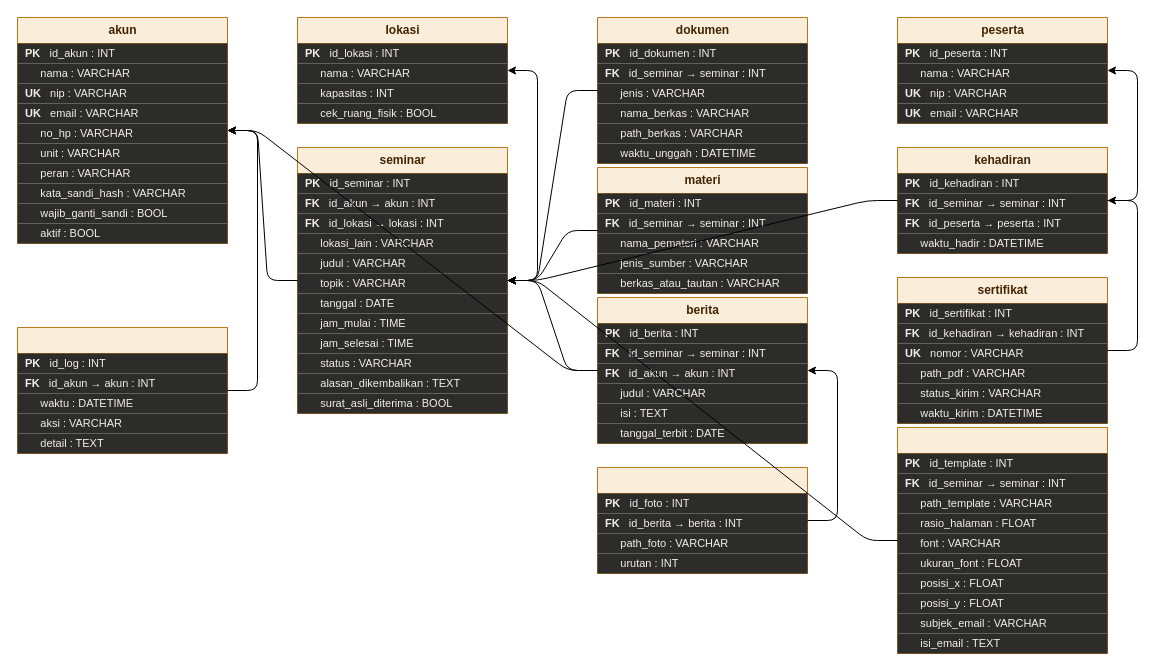
The diagram is 1163 pixels wide and 671 high, and some of its shapes have lost their labels. The shapes that lost their labels are listed below. From the top down, each one's box as (x1, y1, x2, y2) in pixels, then its label:
(16, 326, 228, 454): audit_log
(596, 466, 808, 574): foto_berita
(896, 426, 1108, 654): template_sertifikat
